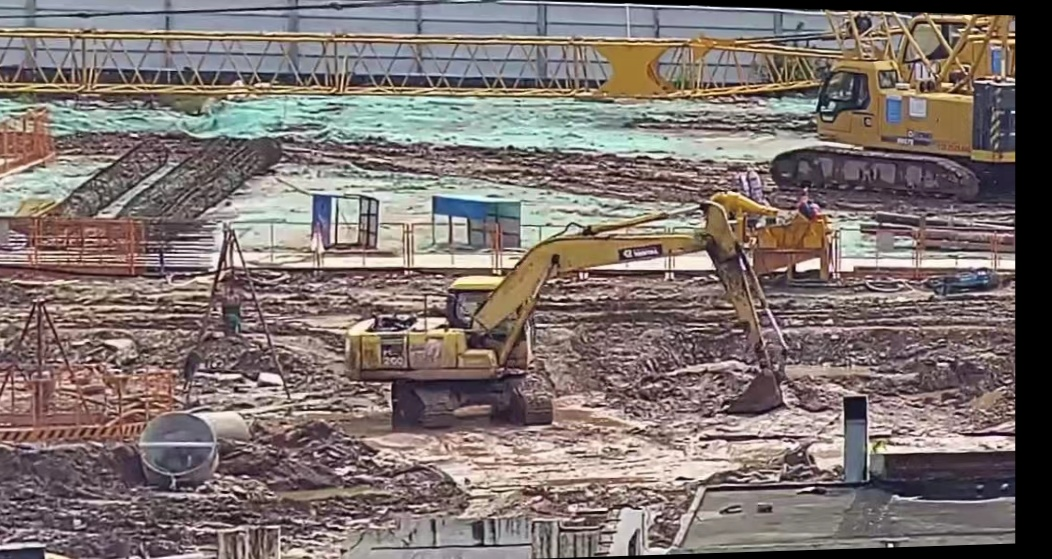excavator: (342, 191, 823, 457)
